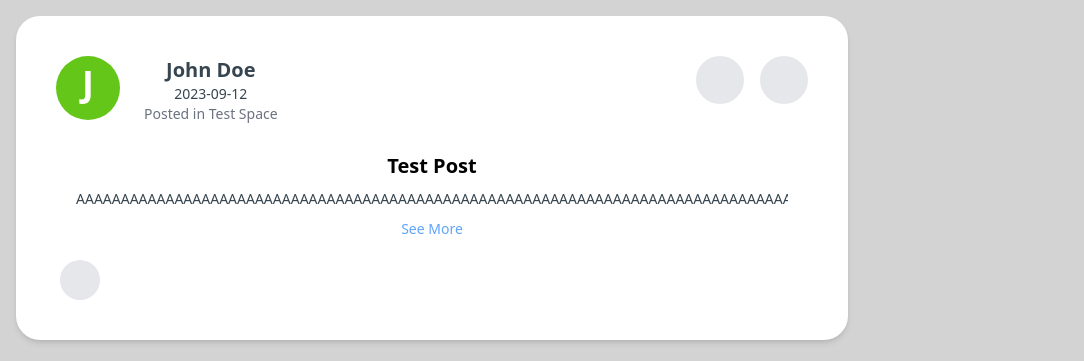
Test: shows See More button if text is long
This screenshot has width=1084, height=361.
Note: Click "See More" button and check if it changes to "See Less"
Click the button "See More" at (432,229), box [401, 219, 463, 239]
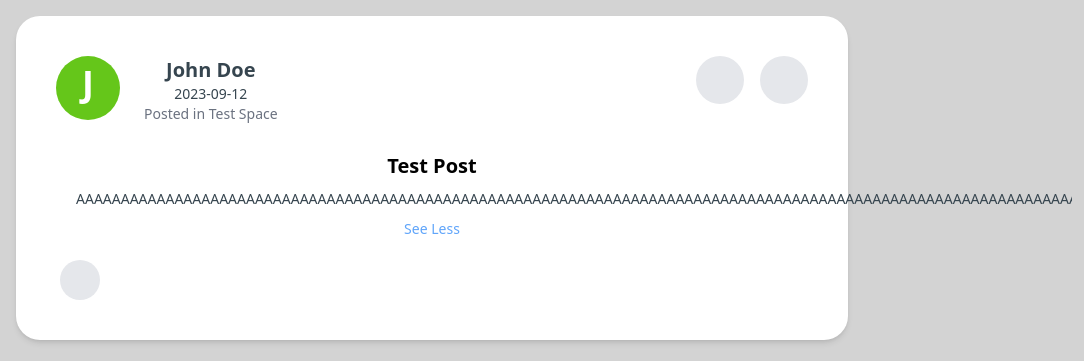
Expected: the button "See Less" is shown, [404, 219, 460, 239]
